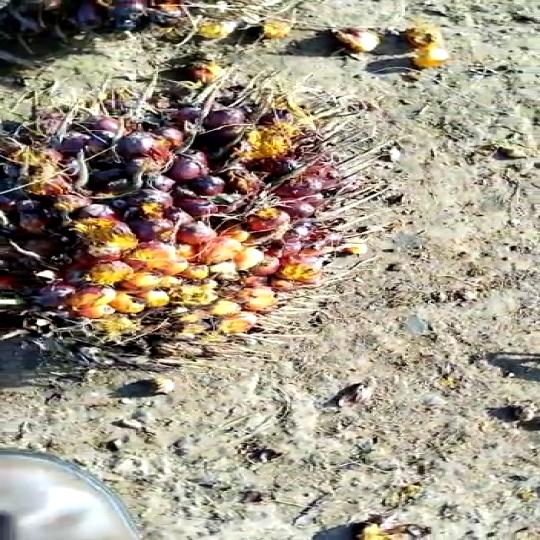masak: (0, 59, 397, 372)
